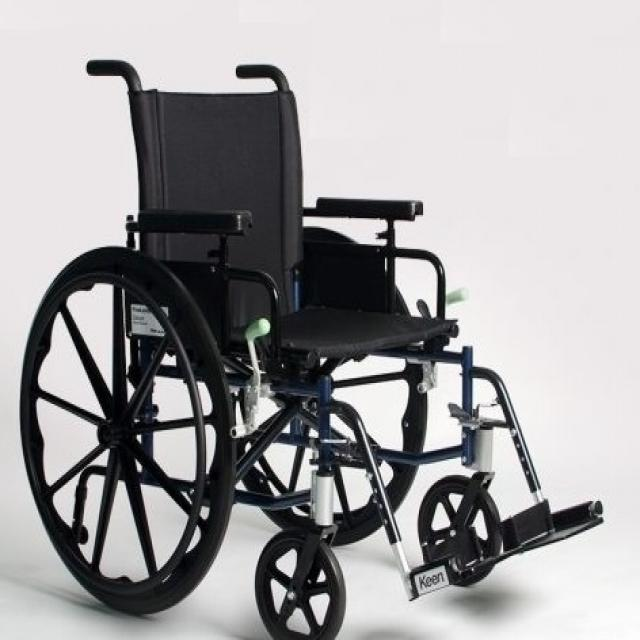wheelchair: (19, 50, 607, 638)
